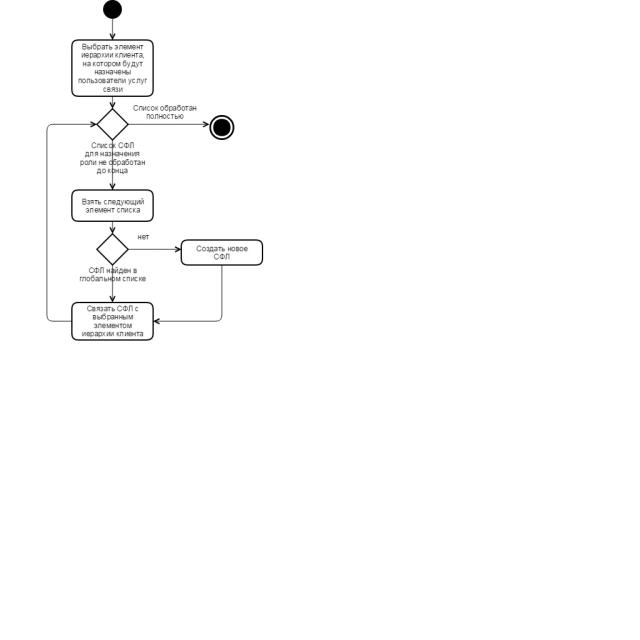arrow: (36, 119, 99, 325), (154, 266, 224, 324), (130, 118, 210, 129), (129, 246, 180, 253), (109, 264, 117, 302), (110, 141, 116, 189), (108, 18, 116, 40), (108, 97, 116, 109), (109, 221, 116, 234)
circle: (210, 115, 234, 139), (104, 0, 121, 19)
diamond: (97, 234, 128, 265), (97, 109, 128, 140)
rectangle: (72, 40, 153, 96), (72, 302, 153, 340), (72, 190, 153, 222), (181, 240, 263, 265)
text_region: (72, 139, 148, 175), (133, 103, 198, 121)
